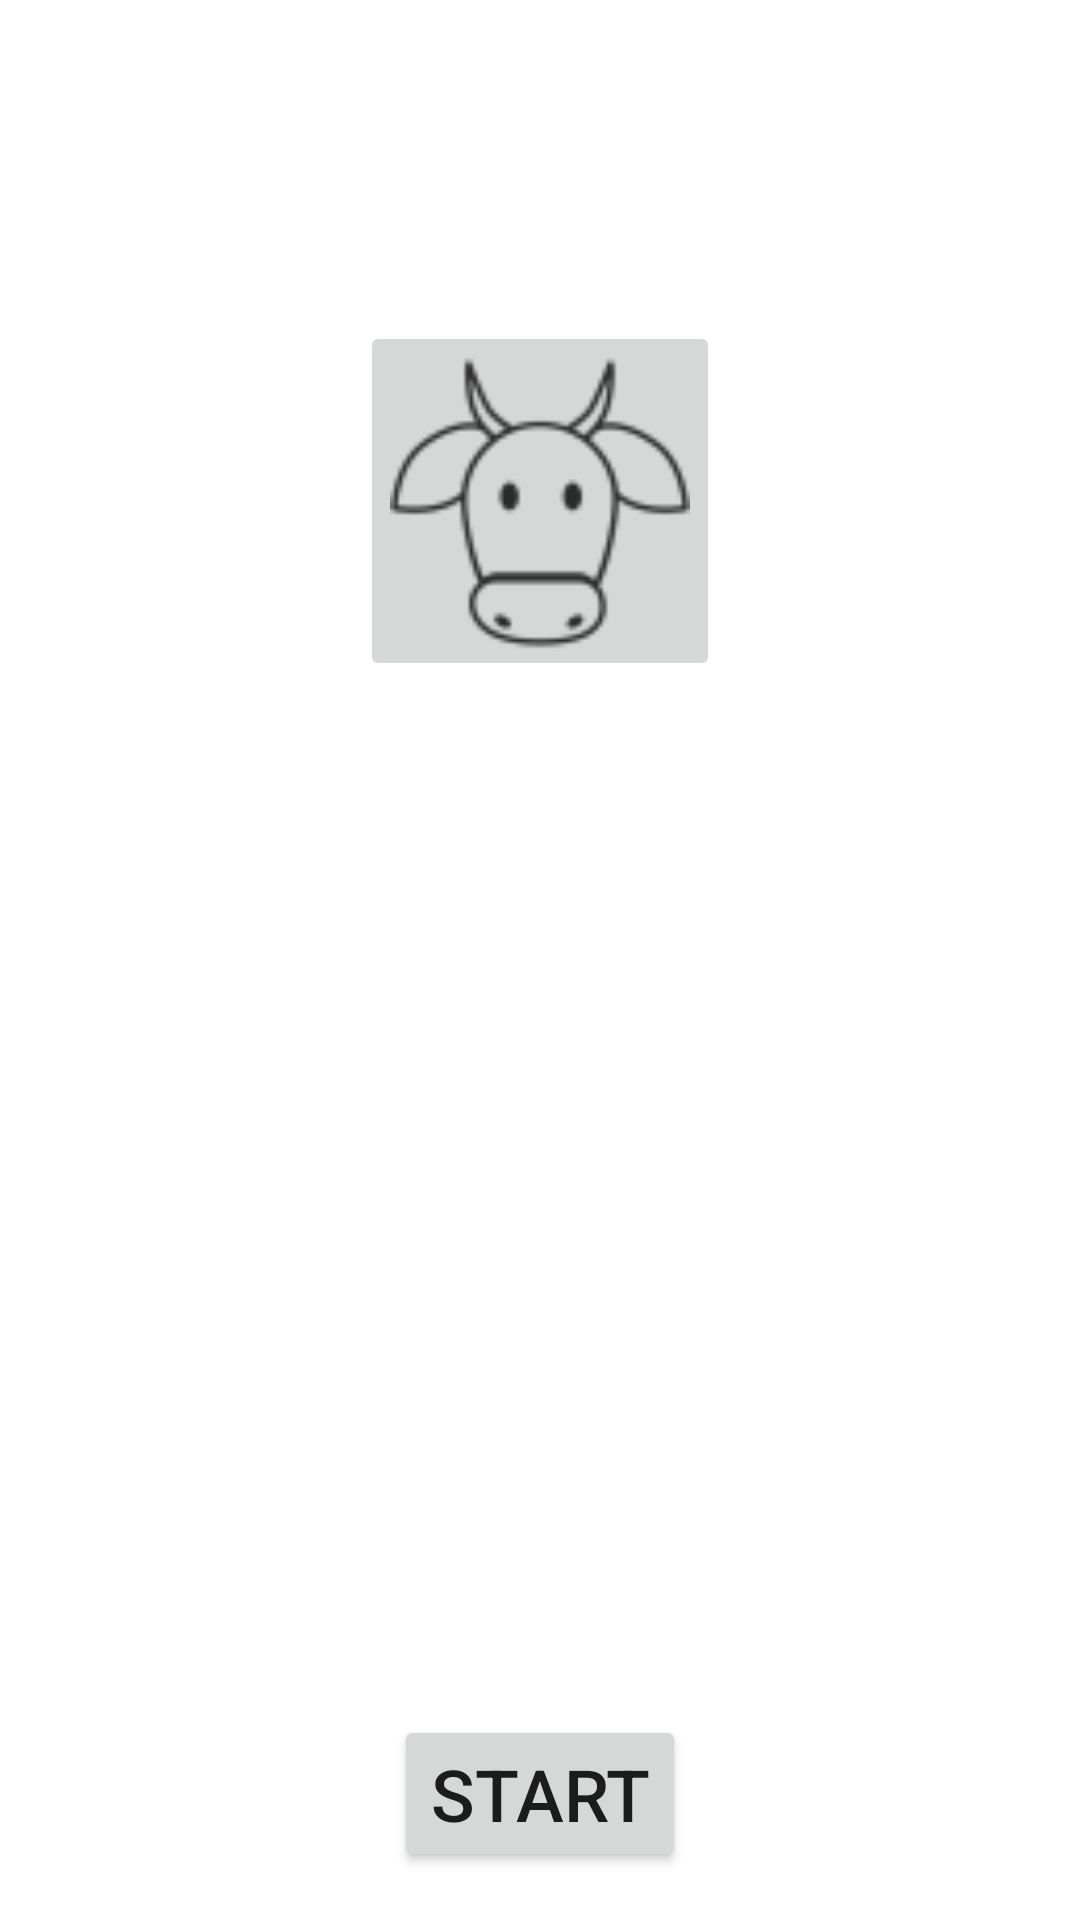

Where icons sit on this 1080px x 1920px app screen, as detection(x1, y1, x2, y2):
cow: detection(372, 339, 708, 663)
